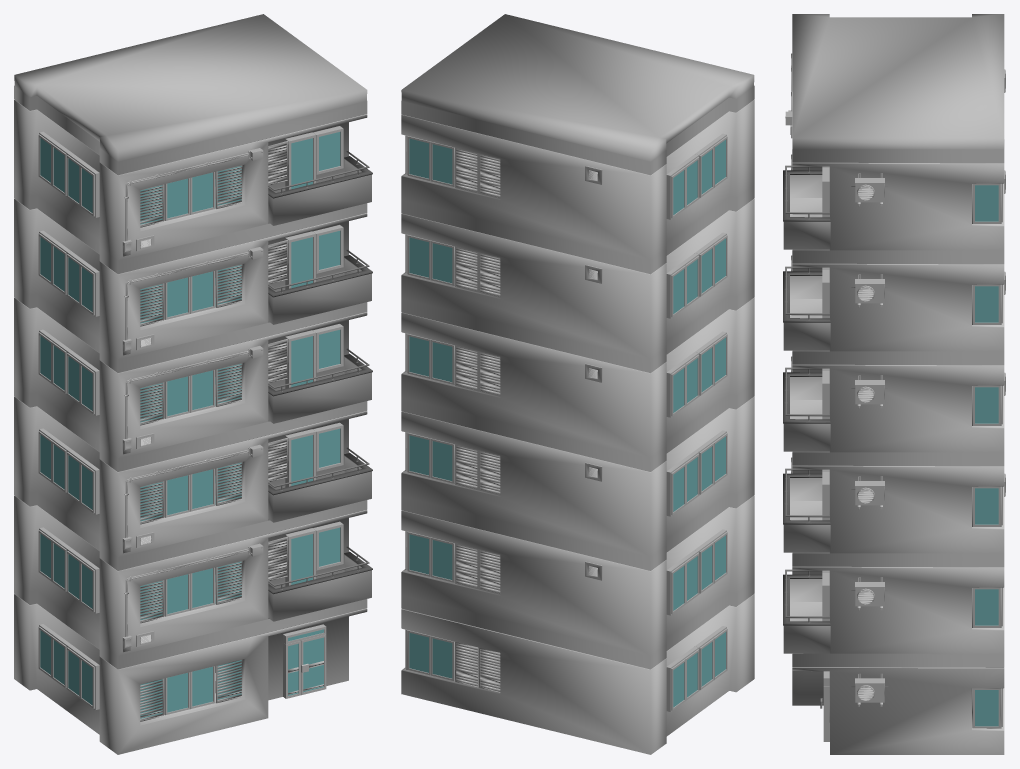
The model's file is apartment_building_04.fbx.
3 views of the same model, side by side, from view 1: azimuth 30°, elevation 25°; view 2: azimuth 150°, elevation 25°; view 3: azimuth 270°, elevation 25° (orthographic). The views are drawn at different scales.
Parts seen in each view (by area): view 1: Box678.010; view 2: Box678.010; view 3: Box678.010.
Part boxes in pixels (x1,y1,x2,y2): Box678.010: (14, 14, 372, 754); Box678.010: (401, 14, 754, 754); Box678.010: (783, 14, 1005, 754).
Bounding box in the file's own units: 1105 × 2420 × 792.
